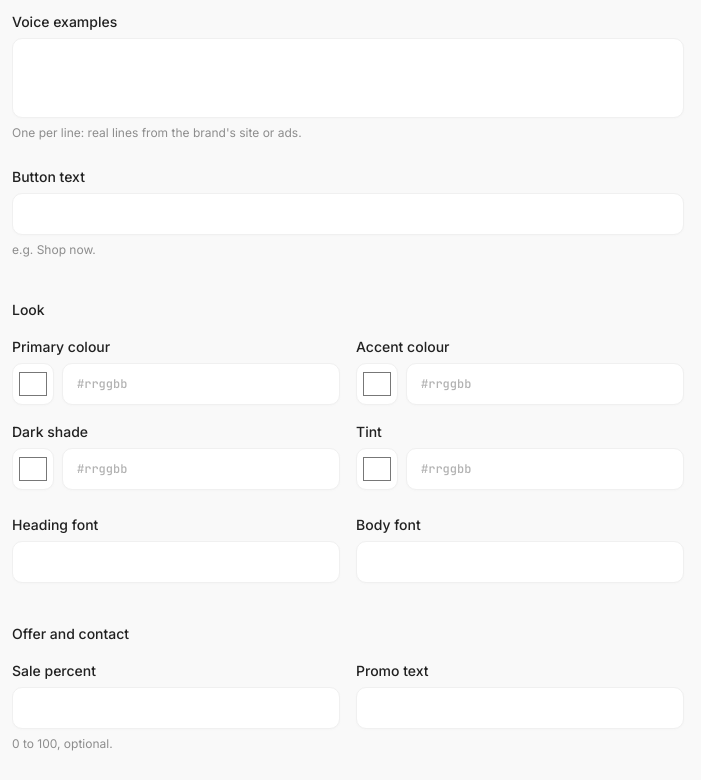
Test: BrandForm › derives the dark shade and tint from a new primary colour
The image size is (701, 780).
(page scrolled)
Step 1. Type "#e4572e" into the field labelled "Primary colour" → {"x": 201, "y": 384}, box x1=62 y1=363 x2=340 y2=405
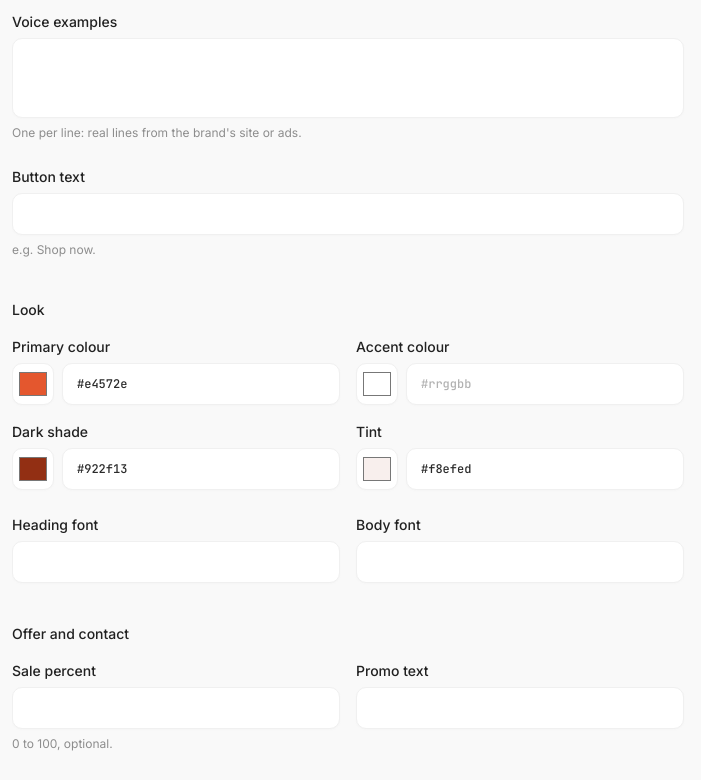
Now the field labelled "Dark shade" holds "#922f13", box x1=62 y1=448 x2=340 y2=490
Now the field labelled "Tint" holds "#f8efed", box x1=406 y1=448 x2=684 y2=490
